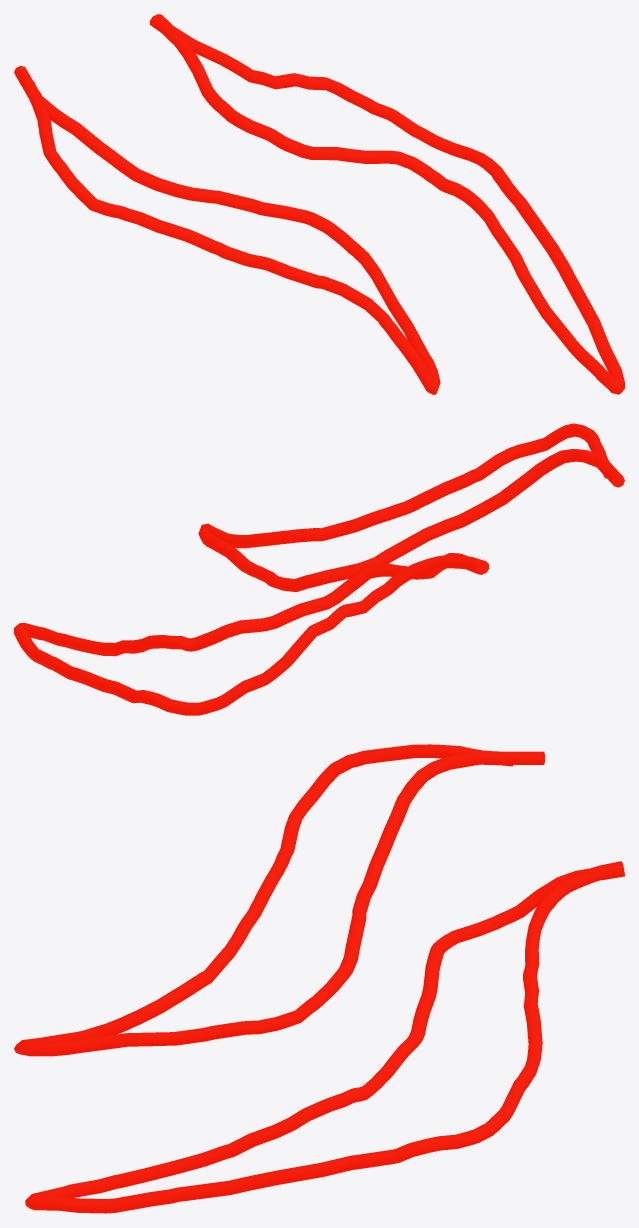
Rendered from annotation_geo_nodes.glb.
3 renders of one model, top to bottom at view 1: azimuth 30°, elevation 25°; view 2: azimuth 210°, elevation 25°; view 3: azimuth 270°, elevation 25°, orthographic. The views are drawn at different scales.
Visible parts, largest first — view 1: GPencil; view 2: GPencil; view 3: GPencil.
Part boxes in pixels (left/top/right/bottom): GPencil: left=14, top=14, right=624, bottom=394; GPencil: left=14, top=423, right=624, bottom=715; GPencil: left=14, top=744, right=624, bottom=1213.
Bounding box in the file's own units: 0.0246 × 0.0121 × 0.0254.
